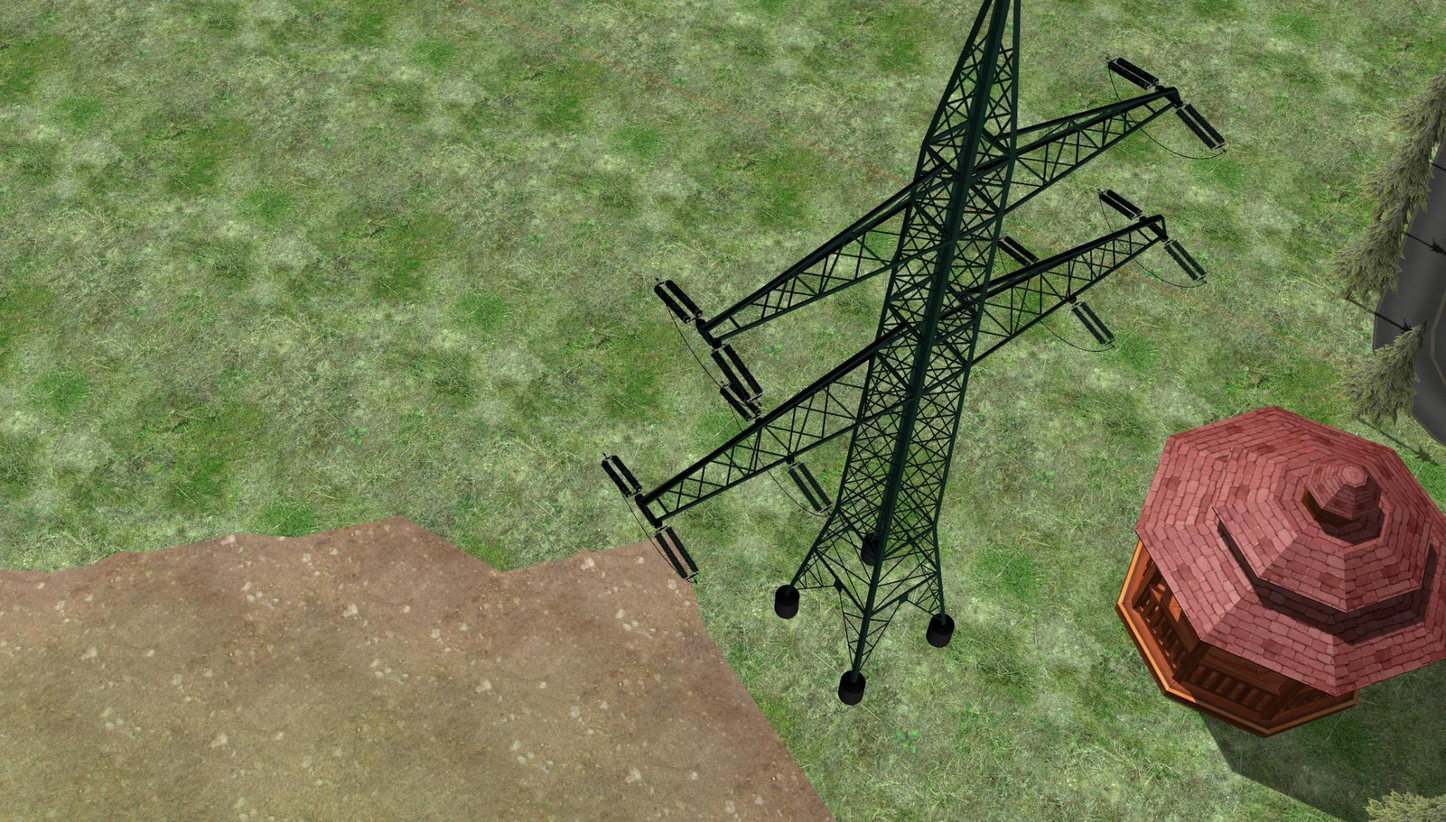tower: (629, 6, 1167, 647)
